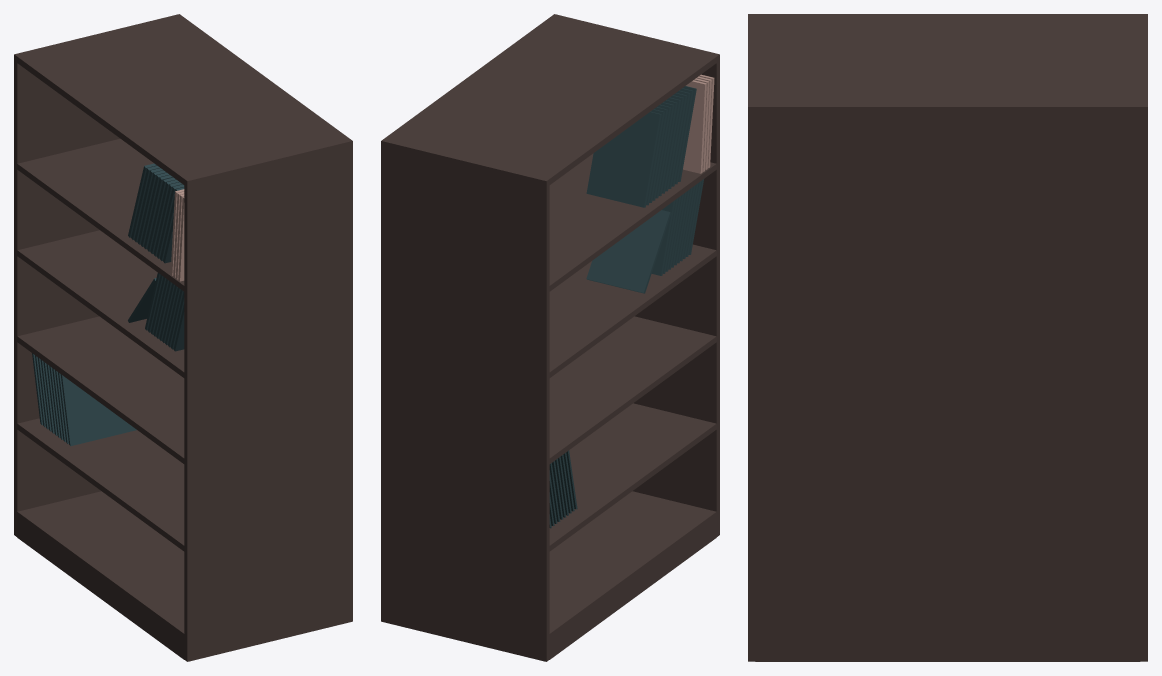
Rendered from Wall_stand1.fbx.
3 renders of one model, left to right at view 1: azimuth 30°, elevation 25°; view 2: azimuth 150°, elevation 25°; view 3: azimuth 270°, elevation 25°, orthographic. The views are drawn at different scales.
Parts seen in each view (by area): view 1: pCube110; view 2: pCube110; view 3: pCube110.
Part boxes in pixels (x1,y1,x2,y2): pCube110: (14, 14, 352, 661); pCube110: (381, 14, 719, 661); pCube110: (748, 14, 1147, 661).
Size of the model in its own units: 2 by 5.55 by 3.63.
